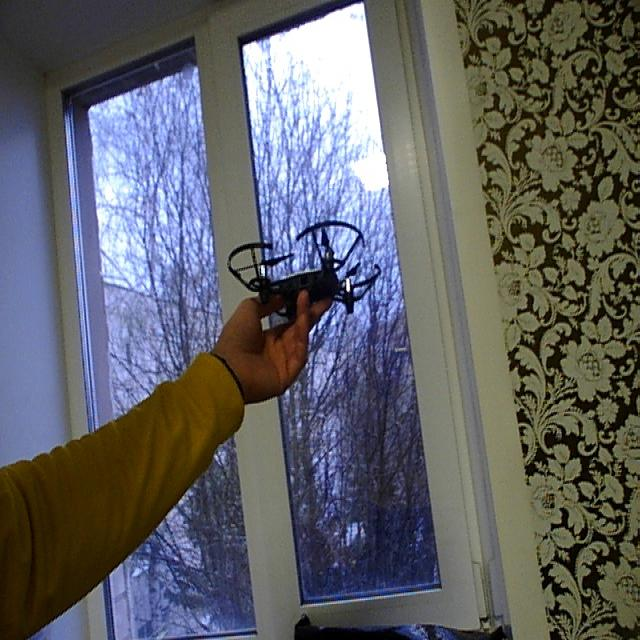drone: (220, 216, 388, 332)
